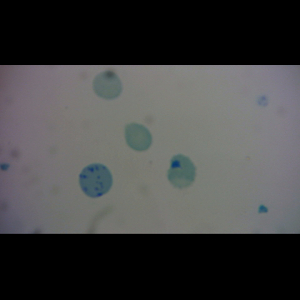aggregate reticulocyte: (78, 163, 114, 199)
erythrocyte: (167, 153, 196, 189), (123, 122, 154, 152), (92, 71, 123, 100)
